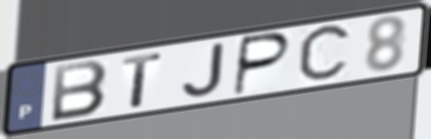8: (362, 14, 409, 76)
B: (49, 58, 111, 124)
C: (294, 20, 355, 88)
J: (179, 41, 227, 100)
P: (230, 30, 295, 99)
T: (120, 50, 165, 109)
